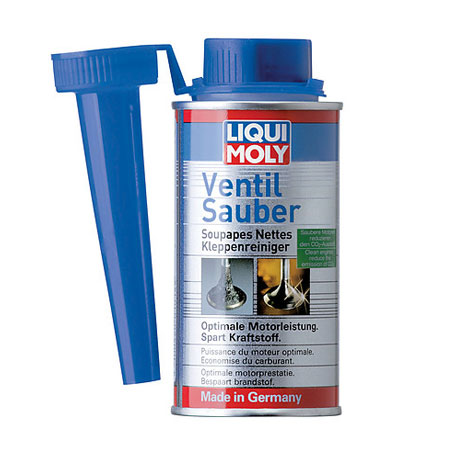Cleaning_solution: (157, 31, 350, 424)
